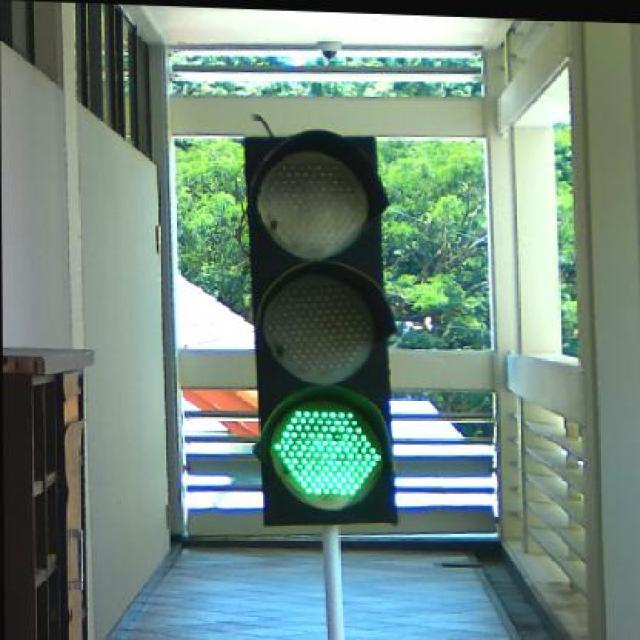traffic light: (244, 129, 399, 528)
